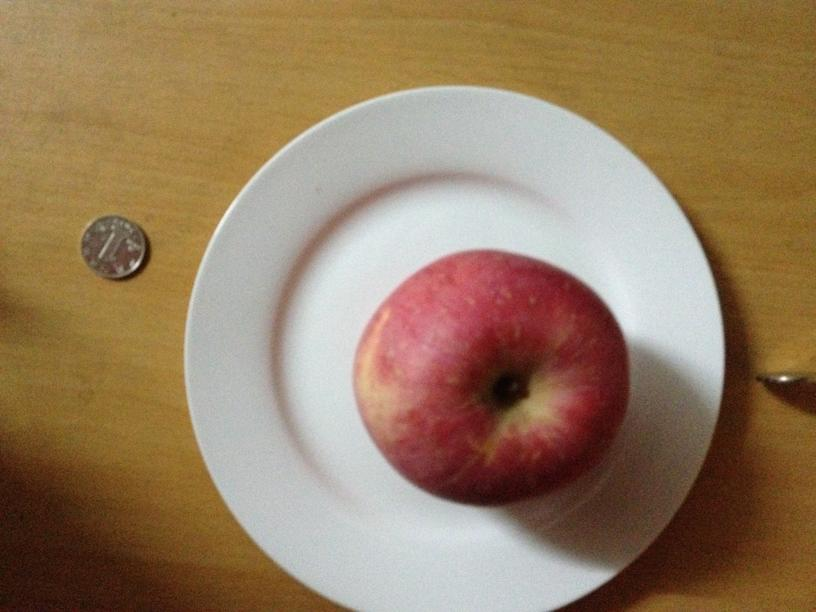apple: (342, 247, 631, 508)
coin: (79, 214, 145, 279)
